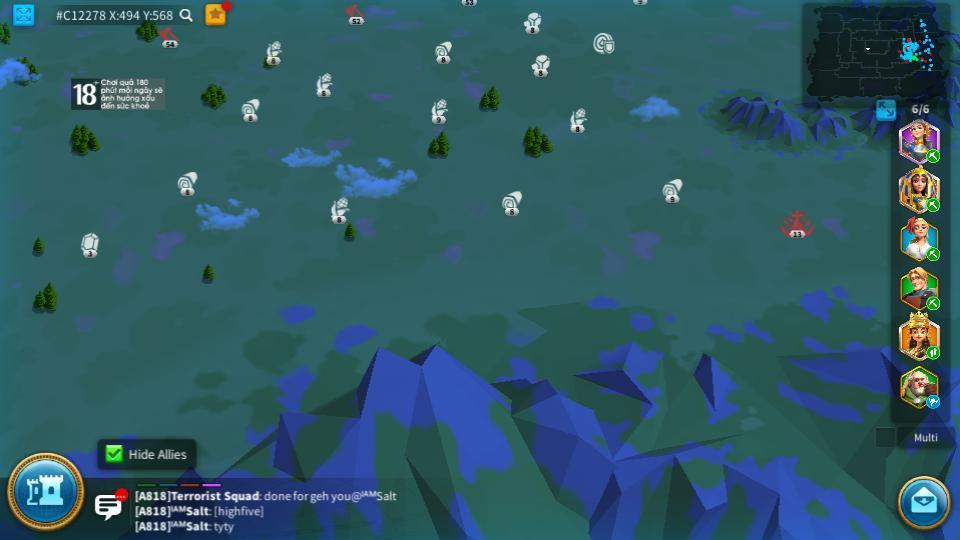gem-z-out: (77, 232, 101, 256)
march_marching: (925, 196, 941, 211), (925, 345, 941, 359), (925, 395, 942, 407), (925, 150, 942, 162), (925, 297, 942, 308)
